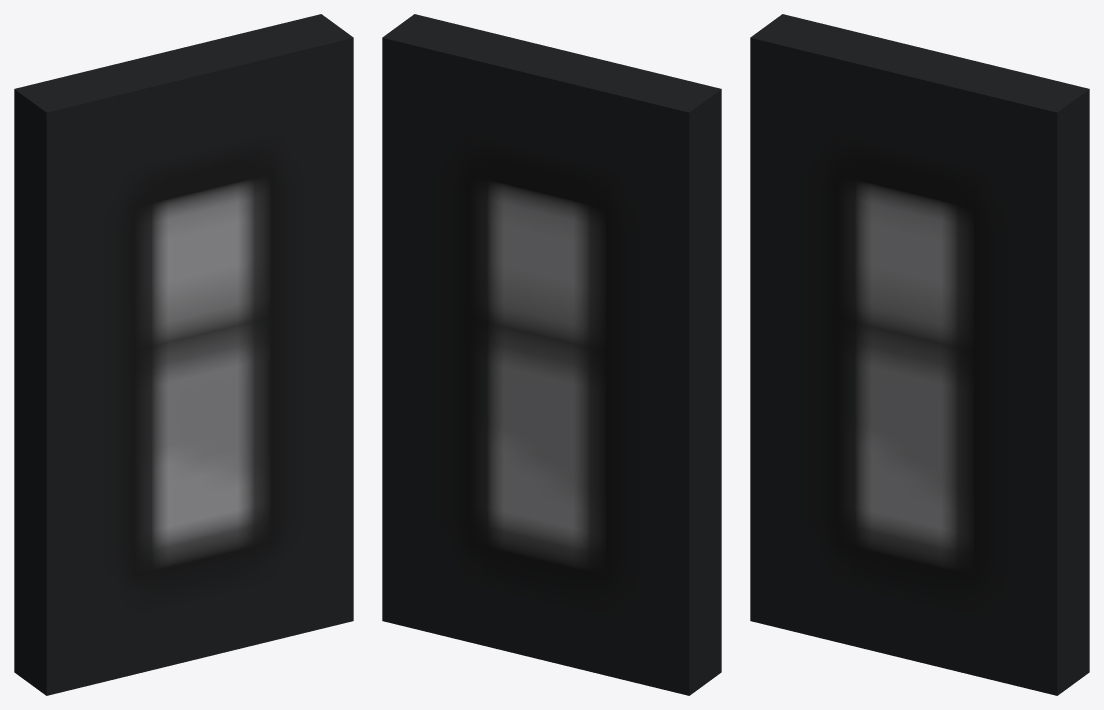
The model's file is SM_Chr_Attach_Patch_Rank_06.fbx.
3 renders of one model, left to right at view 1: azimuth 30°, elevation 25°; view 2: azimuth 150°, elevation 25°; view 3: azimuth 330°, elevation 25°, orthographic.
Visible parts, largest first — view 1: SM_Chr_Attach_Patch_Rank_06; view 2: SM_Chr_Attach_Patch_Rank_06; view 3: SM_Chr_Attach_Patch_Rank_06.
Boxes of the visible parts, bbox=[...] form: SM_Chr_Attach_Patch_Rank_06: bbox=[14, 14, 353, 695]; SM_Chr_Attach_Patch_Rank_06: bbox=[382, 14, 721, 695]; SM_Chr_Attach_Patch_Rank_06: bbox=[750, 14, 1089, 695].
Size of the model in its own units: 3.29 by 5.96 by 0.6004.
